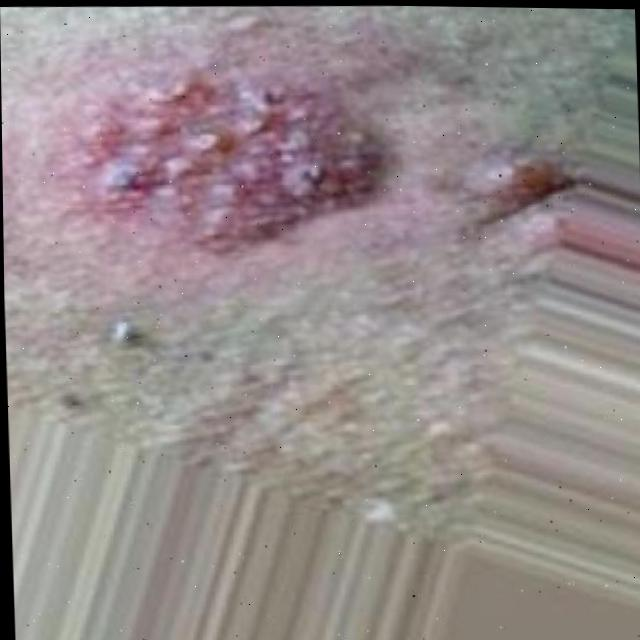Shingles: (74, 66, 380, 243)
